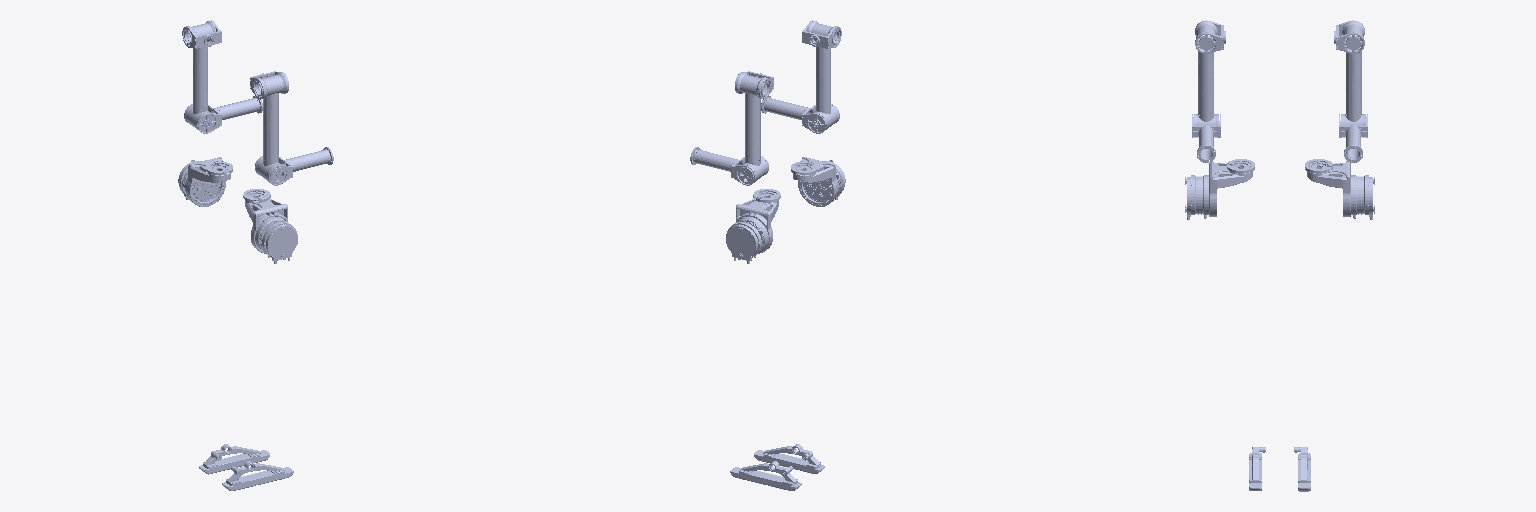
The robot description file, URDF, robot "ht-0_asm.SLDASM8":
<?xml version="1.0" encoding="utf-8"?>
<!-- This URDF was automatically created by SolidWorks to URDF Exporter! Originally created by Stephen Brawner (brawner@gmail.com) 
     Commit Version: 1.6.0-4-g7f85cfe  Build Version: 1.6.7995.38578
     For more information, please see http://wiki.ros.org/sw_urdf_exporter -->
<robot
  name="ht-0_asm.SLDASM8">
  <link
    name="base_link">
    <inertial>
      <origin
        xyz="-0.031927 -0.00095107 -0.091586"
        rpy="0 0 0" />
      <mass
        value="21.217" />
      <inertia
        ixx="0.13805"
        ixy="5.1171E-05"
        ixz="-5.942E-05"
        iyy="0.089228"
        iyz="-0.00028639"
        izz="0.087156" />
    </inertial>
    <visual>
      <origin
        xyz="0 0 0"
        rpy="0 0 0" />
      <geometry>
        <mesh
          filename="../meshes/base_link.STL" />
      </geometry>
      <material
        name="">
        <color
          rgba="0.79216 0.81961 0.93333 1" />
      </material>
    </visual>
    <collision>
      <origin
        xyz="0.002526 0 -0.048786"
        rpy="0 0 0" />
      <geometry>
        <box size="0.292522 0.26401 0.458058" />
      </geometry>
    </collision>
  </link>
  <link
    name="shoulder_pitch_l_link">
    <inertial>
      <origin
        xyz="0.00045078 0.057023 -0.16263"
        rpy="0 0 0" />
      <mass
        value="0.64782" />
      <inertia
        ixx="0.0010237"
        ixy="-4.1731E-07"
        ixz="-6.3085E-09"
        iyy="0.0010051"
        iyz="-7.1182E-07"
        izz="0.00040759" />
    </inertial>
    <visual>
      <origin
        xyz="0 0 0"
        rpy="0 0 0" />
      <geometry>
        <mesh
          filename="../meshes/shoulder_pitch_l_link.STL" />
      </geometry>
      <material
        name="">
        <color
          rgba="0.79216 0.81961 0.93333 1" />
      </material>
    </visual>
  </link>
  <joint
    name="shoulder_pitch_l_joint"
    type="revolute">
    <origin
      xyz="0 0.1647 0"
      rpy="0 0 0" />
    <parent
      link="base_link" />
    <child
      link="shoulder_pitch_l_link" />
    <axis
      xyz="0 -1 0" />
    <limit
      lower="-3.14"
      upper="3.14"
      effort="0"
      velocity="0" />
  </joint>
  <link
    name="elbow_pitch_l_link">
    <inertial>
      <origin
        xyz="0.075424 0.004263 0.00065205"
        rpy="0 0 0" />
      <mass
        value="0.21418" />
      <inertia
        ixx="0.000133"
        ixy="3.1379E-05"
        ixz="-1.2549E-06"
        iyy="0.00026273"
        iyz="2.7128E-07"
        izz="0.00027815" />
    </inertial>
    <visual>
      <origin
        xyz="0 0 0"
        rpy="0 0 0" />
      <geometry>
        <mesh
          filename="../meshes/elbow_pitch_l_link.STL" />
      </geometry>
      <material
        name="">
        <color
          rgba="0.79216 0.81961 0.93333 1" />
      </material>
    </visual>
  </link>
  <joint
    name="elbow_pitch_l_joint"
    type="revolute">
    <origin
      xyz="0 0.062458 -0.3"
      rpy="0 0 0" />
    <parent
      link="shoulder_pitch_l_link" />
    <child
      link="elbow_pitch_l_link" />
    <axis
      xyz="0 1 0" />
    <limit
      lower="-0.5235987755982988"
      upper="1.134464013796314"
      effort="0"
      velocity="0" />
  </joint>
  <link
    name="shoulder_pitch_r_link">
    <inertial>
      <origin
        xyz="0.00045079 -0.060183 -0.16263"
        rpy="0 0 0" />
      <mass
        value="0.64782" />
      <inertia
        ixx="0.0010237"
        ixy="4.2918E-07"
        ixz="-6.9001E-09"
        iyy="0.0010051"
        iyz="7.0422E-07"
        izz="0.00040759" />
    </inertial>
    <visual>
      <origin
        xyz="0 0 0"
        rpy="0 0 0" />
      <geometry>
        <mesh
          filename="../meshes/shoulder_pitch_r_link.STL" />
      </geometry>
      <material
        name="">
        <color
          rgba="0.79216 0.81961 0.93333 1" />
      </material>
    </visual>
  </link>
  <joint
    name="shoulder_pitch_r_joint"
    type="revolute">
    <origin
      xyz="0 -0.1647 0"
      rpy="0 0 0" />
    <parent
      link="base_link" />
    <child
      link="shoulder_pitch_r_link" />
    <axis
      xyz="0 1 0" />
    <limit
      lower="-3.14"
      upper="3.14"
      effort="0"
      velocity="0" />
  </joint>
  <link
    name="elbow_pitch_r_link">
    <inertial>
      <origin
        xyz="0.075424 -0.004263 0.00065204"
        rpy="0 0 0" />
      <mass
        value="0.21418" />
      <inertia
        ixx="0.000133"
        ixy="-3.1379E-05"
        ixz="-1.2549E-06"
        iyy="0.00026273"
        iyz="-2.713E-07"
        izz="0.00027815" />
    </inertial>
    <visual>
      <origin
        xyz="0 0 0"
        rpy="0 0 0" />
      <geometry>
        <mesh
          filename="../meshes/elbow_pitch_r_link.STL" />
      </geometry>
      <material
        name="">
        <color
          rgba="0.79216 0.81961 0.93333 1" />
      </material>
    </visual>
  </link>
  <joint
    name="elbow_pitch_r_joint"
    type="revolute">
    <origin
      xyz="0 -0.062458 -0.3"
      rpy="0 0 0" />
    <parent
      link="shoulder_pitch_r_link" />
    <child
      link="elbow_pitch_r_link" />
    <axis
      xyz="0 1 0" />
    <limit
      lower="-0.5235987755982988"
      upper="1.134464013796314"
      effort="0"
      velocity="0" />
  </joint>
  <link
    name="waist_link">
    <inertial>
      <origin
        xyz="-0.052325 -2.3017E-05 -0.066634"
        rpy="0 0 0" />
      <mass
        value="6.65" />
      <inertia
        ixx="0.020515"
        ixy="5.5161E-06"
        ixz="-0.00082533"
        iyy="0.0074022"
        iyz="-1.0191E-06"
        izz="0.019998" />
    </inertial>
    <visual>
      <origin
        xyz="0 0 0"
        rpy="0 0 0" />
      <geometry>
        <mesh
          filename="../meshes/waist_link.STL" />
      </geometry>
      <material
        name="">
        <color
          rgba="0.79216 0.81961 0.93333 1" />
      </material>
    </visual>
  </link>
  <joint
    name="waist_joint"
    type="revolute">
    <origin
      xyz="0 0 -0.314"
      rpy="0 0 0" />
    <parent
      link="base_link" />
    <child
      link="waist_link" />
    <axis
      xyz="0 0 1" />
    <limit
      lower="-3.14"
      upper="3.14"
      effort="0"
      velocity="0" />
  </joint>
  <link
    name="hip_roll_r_link">
    <inertial>
      <origin
        xyz="0.067607 -4.4804E-05 0.0026625"
        rpy="0 0 0" />
      <mass
        value="1.4872" />
      <inertia
        ixx="0.00090724"
        ixy="-1.6089E-06"
        ixz="-2.2084E-05"
        iyy="0.0011867"
        iyz="1.4298E-07"
        izz="0.0016312" />
    </inertial>
    <visual>
      <origin
        xyz="0 0 0"
        rpy="0 0 0" />
      <geometry>
        <mesh
          filename="../meshes/hip_roll_r_link.STL" />
      </geometry>
      <material
        name="">
        <color
          rgba="0.79216 0.81961 0.93333 1" />
      </material>
    </visual>
  </link>
  <joint
    name="hip_roll_r_joint"
    type="revolute">
    <origin
      xyz="-0.0605 -0.12 -0.0845"
      rpy="0 0 0" />
    <parent
      link="waist_link" />
    <child
      link="hip_roll_r_link" />
    <axis
      xyz="1 0 0" />
    <limit
      lower="-3.14"
      upper="3.14"
      effort="0"
      velocity="0" />
  </joint>
  <link
    name="hip_yaw_r_link">
    <inertial>
      <origin
        xyz="5.1727E-05 -0.093039 -0.088751"
        rpy="0 0 0" />
      <mass
        value="3.4235" />
      <inertia
        ixx="0.0083034"
        ixy="-9.1687E-06"
        ixz="-2.2092E-06"
        iyy="0.0091041"
        iyz="-0.00083037"
        izz="0.0076689" />
    </inertial>
    <visual>
      <origin
        xyz="0 0 0"
        rpy="0 0 0" />
      <geometry>
        <mesh
          filename="../meshes/hip_yaw_r_link.STL" />
      </geometry>
      <material
        name="">
        <color
          rgba="0.79216 0.81961 0.93333 1" />
      </material>
    </visual>
  </link>
  <joint
    name="hip_yaw_r_joint"
    type="revolute">
    <origin
      xyz="0.0695 0 -0.0323"
      rpy="0 0 0" />
    <parent
      link="hip_roll_r_link" />
    <child
      link="hip_yaw_r_link" />
    <axis
      xyz="0 0 1" />
    <limit
      lower="-3.14"
      upper="3.14"
      effort="0"
      velocity="0" />
  </joint>
  <link
    name="hip_pitch_r_link">
    <inertial>
      <origin
        xyz="0.0053486 0.085838 -0.089566"
        rpy="0 0 0" />
      <mass
        value="6.0129" />
      <inertia
        ixx="0.072527"
        ixy="-0.0001451"
        ixz="0.0037325"
        iyy="0.07554"
        iyz="0.0043065"
        izz="0.011109" />
    </inertial>
    <visual>
      <origin
        xyz="0 0 0"
        rpy="0 0 0" />
      <geometry>
        <mesh
          filename="../meshes/hip_pitch_r_link.STL" />
      </geometry>
      <material
        name="">
        <color
          rgba="0.79216 0.81961 0.93333 1" />
      </material>
    </visual>
  </link>
  <joint
    name="hip_pitch_r_joint"
    type="revolute">
    <origin
      xyz="0 -0.076 -0.1033"
      rpy="0 0 0" />
    <parent
      link="hip_yaw_r_link" />
    <child
      link="hip_pitch_r_link" />
    <axis
      xyz="0 1 0" />
    <limit
      lower="-3.14"
      upper="3.14"
      effort="0"
      velocity="0" />
  </joint>
  <link
    name="knee_pitch_r_link">
    <inertial>
      <origin
        xyz="0.0031709 -0.0093143 -0.14481"
        rpy="0 0 0" />
      <mass
        value="2.9176" />
      <inertia
        ixx="0.027192"
        ixy="4.3587E-06"
        ixz="-0.00081866"
        iyy="0.028494"
        iyz="-3.7041E-05"
        izz="0.0018736" />
    </inertial>
    <visual>
      <origin
        xyz="0 0 0"
        rpy="0 0 0" />
      <geometry>
        <mesh
          filename="../meshes/knee_pitch_r_link.STL" />
      </geometry>
      <material
        name="">
        <color
          rgba="0.79216 0.81961 0.93333 1" />
      </material>
    </visual>
  </link>
  <joint
    name="knee_pitch_r_joint"
    type="revolute">
    <origin
      xyz="0 0.121 -0.46"
      rpy="0 0 0" />
    <parent
      link="hip_pitch_r_link" />
    <child
      link="knee_pitch_r_link" />
    <axis
      xyz="0 1 0" />
    <limit
      lower="-3.14"
      upper="3.14"
      effort="0"
      velocity="0" />
  </joint>
  <link
    name="ankle_pitch_r_link">
    <inertial>
      <origin
        xyz="0.017881 0.00053938 -0.033954"
        rpy="0 0 0" />
      <mass
        value="0.62301" />
      <inertia
        ixx="0.0001073"
        ixy="-4.1548E-10"
        ixz="3.3987E-05"
        iyy="0.0023571"
        iyz="6.5814E-10"
        izz="0.0023581" />
    </inertial>
    <visual>
      <origin
        xyz="0 0 0"
        rpy="0 0 0" />
      <geometry>
        <mesh
          filename="../meshes/ankle_pitch_r_link.STL" />
      </geometry>
      <material
        name="">
        <color
          rgba="0.79216 0.81961 0.93333 1" />
      </material>
    </visual>
    <collision>
      <origin
        xyz="0.03 -0.01 -0.055"
        rpy="0 1.5707963267948966 0" />
      <geometry>
        <cylinder radius="0.01" length="0.25" />
      </geometry>
    </collision>
    <collision>
      <origin
        xyz="0.03 0.01 -0.055"
        rpy="0 1.5707963267948966 0" />
      <geometry>
        <cylinder radius="0.01" length="0.25" />
      </geometry>
    </collision>
  </link>
  <joint
    name="ankle_pitch_r_joint"
    type="revolute">
    <origin
      xyz="0 0 -0.42"
      rpy="0 0 0" />
    <parent
      link="knee_pitch_r_link" />
    <child
      link="ankle_pitch_r_link" />
    <axis
      xyz="0 1 0" />
    <limit
      lower="-3.14"
      upper="3.14"
      effort="0"
      velocity="0" />
  </joint>
  <link
    name="hip_roll_l_link">
    <inertial>
      <origin
        xyz="0.063086 4.1344E-05 0.0026625"
        rpy="0 0 0" />
      <mass
        value="1.4872" />
      <inertia
        ixx="0.00090724"
        ixy="-1.6089E-06"
        ixz="-2.2631E-05"
        iyy="0.0011867"
        iyz="-1.707E-08"
        izz="0.0016312" />
    </inertial>
    <visual>
      <origin
        xyz="0 0 0"
        rpy="0 0 0" />
      <geometry>
        <mesh
          filename="../meshes/hip_roll_l_link.STL" />
      </geometry>
      <material
        name="">
        <color
          rgba="0.79216 0.81961 0.93333 1" />
      </material>
    </visual>
  </link>
  <joint
    name="hip_roll_l_joint"
    type="revolute">
    <origin
      xyz="-0.056 0.12 -0.0845"
      rpy="0 0 0" />
    <parent
      link="waist_link" />
    <child
      link="hip_roll_l_link" />
    <axis
      xyz="1 0 0" />
    <limit
      lower="-3.14"
      upper="3.14"
      effort="0"
      velocity="0" />
  </joint>
  <link
    name="hip_yaw_l_link">
    <inertial>
      <origin
        xyz="4.2994E-05 0.093039 -0.088947"
        rpy="0 0 0" />
      <mass
        value="3.4236" />
      <inertia
        ixx="0.0083034"
        ixy="-5.1628E-06"
        ixz="-2.2185E-06"
        iyy="0.0091041"
        iyz="0.00083038"
        izz="0.0076689" />
    </inertial>
    <visual>
      <origin
        xyz="0 0 0"
        rpy="0 0 0" />
      <geometry>
        <mesh
          filename="../meshes/hip_yaw_l_link.STL" />
      </geometry>
      <material
        name="">
        <color
          rgba="0.79216 0.81961 0.93333 1" />
      </material>
    </visual>
  </link>
  <joint
    name="hip_yaw_l_joint"
    type="revolute">
    <origin
      xyz="0.065 0 -0.0323"
      rpy="0 0 0" />
    <parent
      link="hip_roll_l_link" />
    <child
      link="hip_yaw_l_link" />
    <axis
      xyz="0 0 1" />
    <limit
      lower="-3.14"
      upper="3.14"
      effort="0"
      velocity="0" />
  </joint>
  <link
    name="hip_pitch_l_link">
    <inertial>
      <origin
        xyz="0.0053395 -0.085678 -0.08808"
        rpy="0 0 0" />
      <mass
        value="5.987" />
      <inertia
        ixx="0.072526"
        ixy="0.00014509"
        ixz="0.0037324"
        iyy="0.075539"
        iyz="-0.0043066"
        izz="0.011108" />
    </inertial>
    <visual>
      <origin
        xyz="0 0 0"
        rpy="0 0 0" />
      <geometry>
        <mesh
          filename="../meshes/hip_pitch_l_link.STL" />
      </geometry>
      <material
        name="">
        <color
          rgba="0.79216 0.81961 0.93333 1" />
      </material>
    </visual>
  </link>
  <joint
    name="hip_pitch_l_joint"
    type="revolute">
    <origin
      xyz="0 0.076 -0.1035"
      rpy="0 0 0" />
    <parent
      link="hip_yaw_l_link" />
    <child
      link="hip_pitch_l_link" />
    <axis
      xyz="0 1 0" />
    <limit
      lower="-3.14"
      upper="3.14"
      effort="0"
      velocity="0" />
  </joint>
  <link
    name="knee_pitch_l_link">
    <inertial>
      <origin
        xyz="0.0031754 0.0093623 -0.14337"
        rpy="0 0 0" />
      <mass
        value="2.9026" />
      <inertia
        ixx="0.027192"
        ixy="-4.4277E-06"
        ixz="-0.00081902"
        iyy="0.028493"
        iyz="3.7184E-05"
        izz="0.0018725" />
    </inertial>
    <visual>
      <origin
        xyz="0 0 0"
        rpy="0 0 0" />
      <geometry>
        <mesh
          filename="../meshes/knee_pitch_l_link.STL" />
      </geometry>
      <material
        name="">
        <color
          rgba="0.79216 0.81961 0.93333 1" />
      </material>
    </visual>
  </link>
  <joint
    name="knee_pitch_l_joint"
    type="revolute">
    <origin
      xyz="0 -0.121 -0.46"
      rpy="0 0 0" />
    <parent
      link="hip_pitch_l_link" />
    <child
      link="knee_pitch_l_link" />
    <axis
      xyz="0 -1 0" />
    <limit
      lower="-3.14"
      upper="3.14"
      effort="0"
      velocity="0" />
  </joint>
  <link
    name="ankle_pitch_l_link">
    <inertial>
      <origin
        xyz="0.017881 -0.00053938 -0.033955"
        rpy="0 0 0" />
      <mass
        value="0.62301" />
      <inertia
        ixx="0.00010731"
        ixy="2.6948E-09"
        ixz="3.3989E-05"
        iyy="0.0023571"
        iyz="3.2189E-11"
        izz="0.0023581" />
    </inertial>
    <visual>
      <origin
        xyz="0 0 0"
        rpy="0 0 0" />
      <geometry>
        <mesh
          filename="../meshes/ankle_pitch_l_link.STL" />
      </geometry>
      <material
        name="">
        <color
          rgba="0.79216 0.81961 0.93333 1" />
      </material>
    </visual>
    <collision>
      <origin
        xyz="0.03 -0.01 -0.055"
        rpy="0 1.5707963267948966 0" />
      <geometry>
        <cylinder radius="0.01" length="0.25" />
      </geometry>
    </collision>
    <collision>
      <origin
        xyz="0.03 0.01 -0.055"
        rpy="0 1.5707963267948966 0" />
      <geometry>
        <cylinder radius="0.01" length="0.25" />
      </geometry>
    </collision>
  </link>
  <joint
    name="ankle_pitch_l_joint"
    type="revolute">
    <origin
      xyz="0 0 -0.42"
      rpy="0 0 0" />
    <parent
      link="knee_pitch_l_link" />
    <child
      link="ankle_pitch_l_link" />
    <axis
      xyz="0 1 0" />
    <limit
      lower="-3.14"
      upper="3.14"
      effort="0"
      velocity="0" />
  </joint>
</robot>

--- What the picture shows (computed from the rendered views, not written in the file) ---
Views: 3 orthographic renders of the robot side by side, from view 1: azimuth 30°, elevation 25°; view 2: azimuth 150°, elevation 25°; view 3: azimuth 270°, elevation 25°.
Model ht-0_asm.SLDASM8 with 16 links and 15 joints (15 revolute), rooted at base_link, posed every joint at zero.
Visible links, largest first — view 1: hip_yaw_r_link, shoulder_pitch_r_link, shoulder_pitch_l_link, hip_yaw_l_link, ankle_pitch_r_link, ankle_pitch_l_link, elbow_pitch_l_link, elbow_pitch_r_link; view 2: hip_yaw_l_link, shoulder_pitch_l_link, shoulder_pitch_r_link, hip_yaw_r_link, ankle_pitch_l_link, ankle_pitch_r_link, elbow_pitch_r_link, elbow_pitch_l_link; view 3: hip_yaw_l_link, hip_yaw_r_link, shoulder_pitch_l_link, shoulder_pitch_r_link, elbow_pitch_l_link, elbow_pitch_r_link, ankle_pitch_l_link, ankle_pitch_r_link.
Link boxes in pixels (bbox=[...]): hip_yaw_r_link: bbox=[243, 189, 297, 263]; shoulder_pitch_r_link: bbox=[250, 71, 288, 182]; shoulder_pitch_l_link: bbox=[182, 20, 221, 129]; hip_yaw_l_link: bbox=[178, 157, 232, 206]; ankle_pitch_r_link: bbox=[222, 461, 293, 490]; ankle_pitch_l_link: bbox=[199, 444, 269, 474]; elbow_pitch_l_link: bbox=[184, 96, 262, 133]; elbow_pitch_r_link: bbox=[255, 147, 333, 185]; hip_yaw_l_link: bbox=[726, 189, 780, 263]; shoulder_pitch_l_link: bbox=[735, 71, 773, 182]; shoulder_pitch_r_link: bbox=[802, 20, 841, 129]; hip_yaw_r_link: bbox=[791, 157, 845, 206]; ankle_pitch_l_link: bbox=[730, 461, 801, 490]; ankle_pitch_r_link: bbox=[754, 444, 824, 473]; elbow_pitch_r_link: bbox=[761, 96, 839, 133]; elbow_pitch_l_link: bbox=[690, 147, 768, 185]; hip_yaw_l_link: bbox=[1305, 159, 1374, 219]; hip_yaw_r_link: bbox=[1185, 159, 1254, 219]; shoulder_pitch_l_link: bbox=[1334, 20, 1365, 125]; shoulder_pitch_r_link: bbox=[1194, 20, 1225, 125]; elbow_pitch_l_link: bbox=[1339, 114, 1367, 162]; elbow_pitch_r_link: bbox=[1192, 114, 1220, 162]; ankle_pitch_l_link: bbox=[1294, 447, 1310, 491]; ankle_pitch_r_link: bbox=[1249, 447, 1265, 490].
Size in the robot's own frame: 0.3012 by 0.5891 by 1.51 metres.
8 mesh visuals loaded from 16 distinct referenced files (8 binary STL); not drawn: 8 (reference not matched to a file when rendering).
